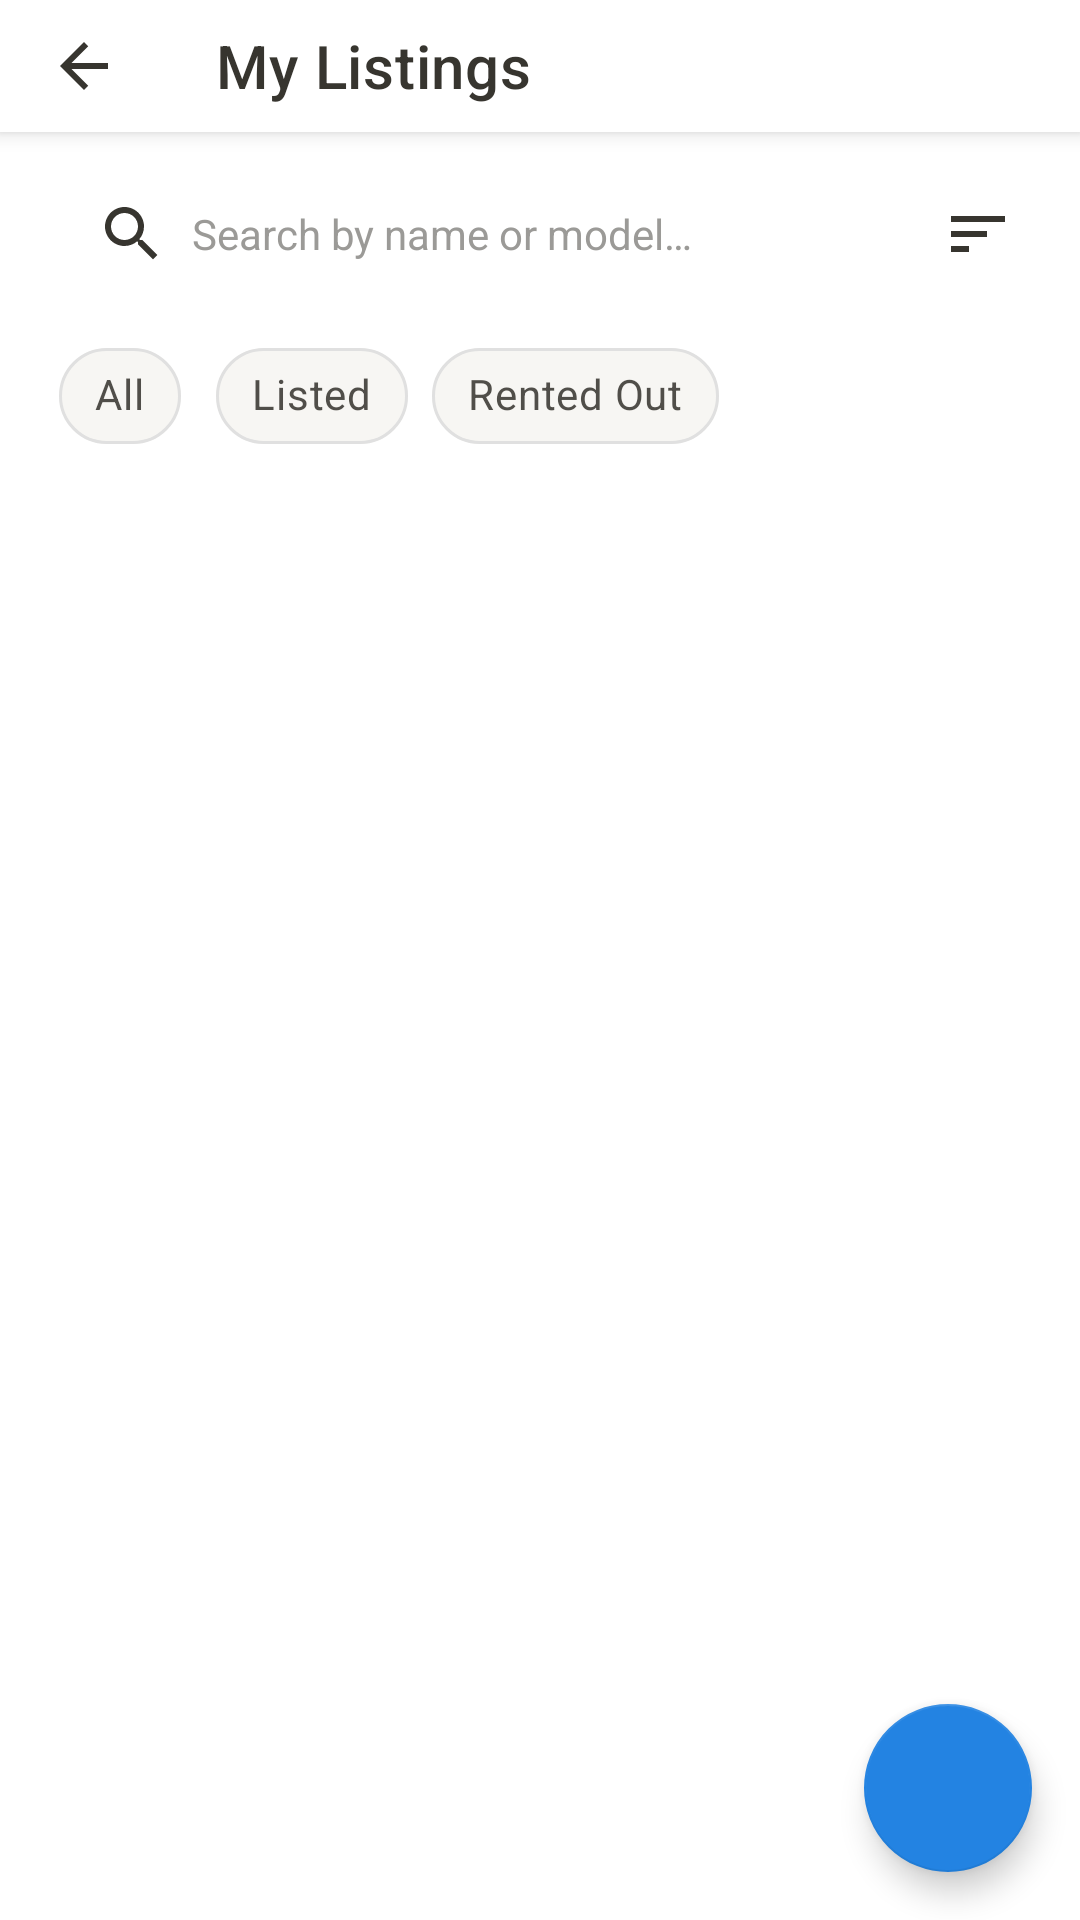

Icons on this 1080px×1920px Android screen, each with the point to tap as (x,y):
Sort cars: (978,234)
